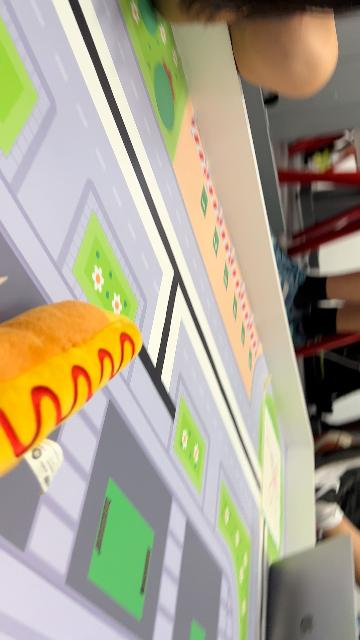hotdog: (2, 300, 144, 478)
